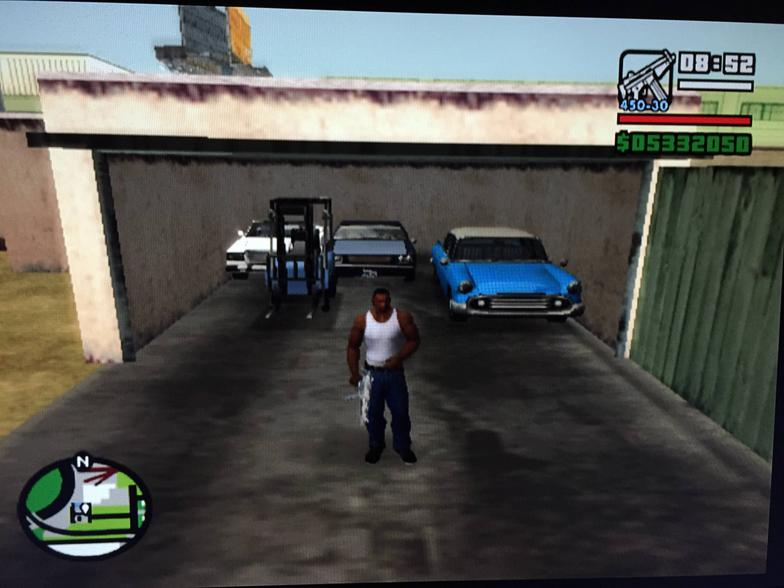car: (435, 227, 582, 324), (226, 213, 328, 292), (326, 218, 412, 285)
person: (347, 288, 421, 466)
